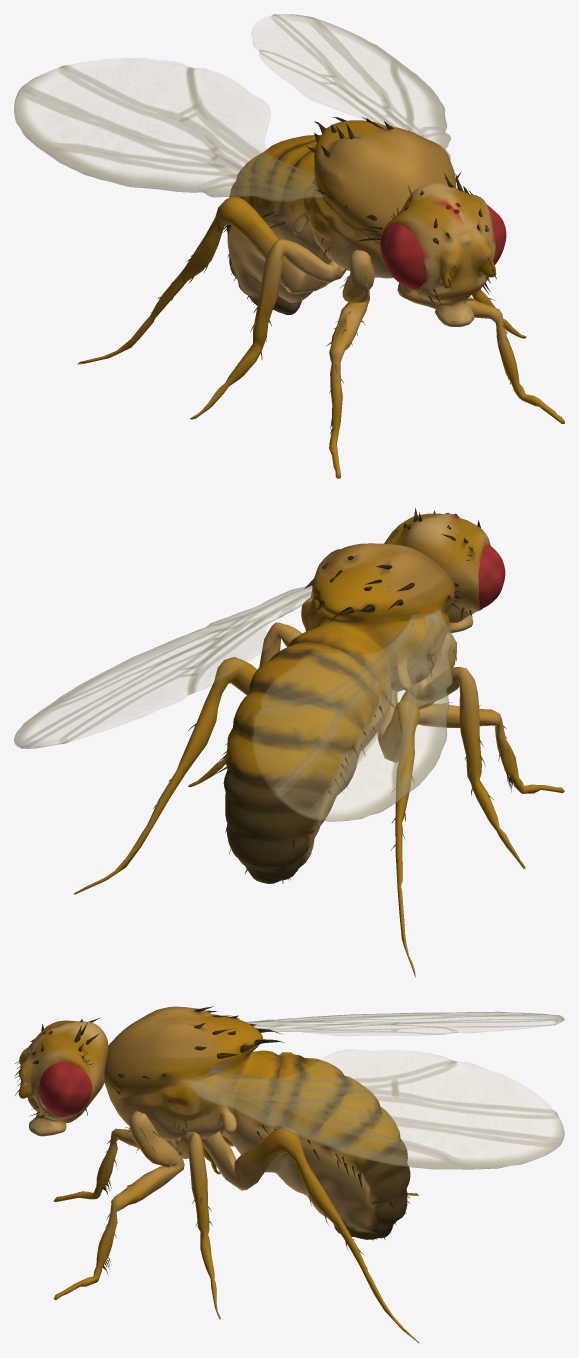
File: fly_visual_v2f.glb
3 views of the same model, one above another, from view 1: azimuth 30°, elevation 25°; view 2: azimuth 150°, elevation 25°; view 3: azimuth 270°, elevation 25° (orthographic). The views are drawn at different scales.
Parts seen in each view (by area): view 1: Wing.L, Torso.Unseparated, Wing.R, Head, Leg.L.Rear, Leg.L.Middle, Leg.L.Front, Eye.L, Leg.R.Front; view 2: Torso.Unseparated, Wing.L, Wing.R, Head, Leg.L.Middle, Leg.L.Rear, Leg.R.Rear, Leg.L.Front, Eye.L, Leg.R.Middle; view 3: Torso.Unseparated, Wing.R, Wing.L, Head, Leg.R.Rear, Leg.R.Front, Leg.R.Middle, Eye.R, Leg.L.Front.
Boxes of the visible parts, x1,y1,x2,y2 form: Wing.L: (14,58,323,202); Torso.Unseparated: (226,120,456,314); Wing.R: (251,14,450,159); Head: (381,183,496,326); Leg.L.Rear: (77,196,346,364); Leg.L.Middle: (190,239,345,419); Leg.L.Front: (329,250,374,478); Eye.L: (380,223,426,289); Leg.R.Front: (397,283,564,423); Torso.Unseparated: (223,543,455,883); Wing.L: (252,609,452,821); Wing.R: (14,585,313,748); Head: (384,513,490,633); Leg.L.Middle: (410,667,525,868); Leg.L.Rear: (377,690,420,977); Leg.R.Rear: (74,657,257,894); Leg.L.Front: (400,633,564,793); Eye.L: (478,545,505,608); Leg.R.Middle: (188,622,301,787); Torso.Unseparated: (104,1006,410,1239); Wing.R: (179,1050,564,1169); Wing.L: (246,1011,564,1035); Head: (18,1020,108,1136); Leg.R.Rear: (201,1127,419,1343); Leg.R.Front: (54,1111,184,1299); Leg.R.Middle: (175,1131,220,1319); Eye.R: (39,1062,91,1115); Leg.L.Front: (53,1128,177,1201).
Bounding box in the file's own units: 0.6712 × 0.5139 × 1.
5 materials, 3 textured.
